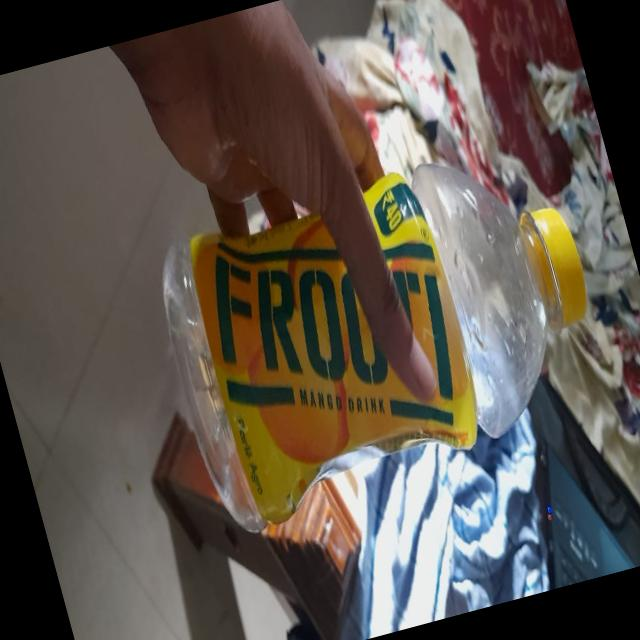Plastic - Recyclable: (140, 125, 628, 545)
